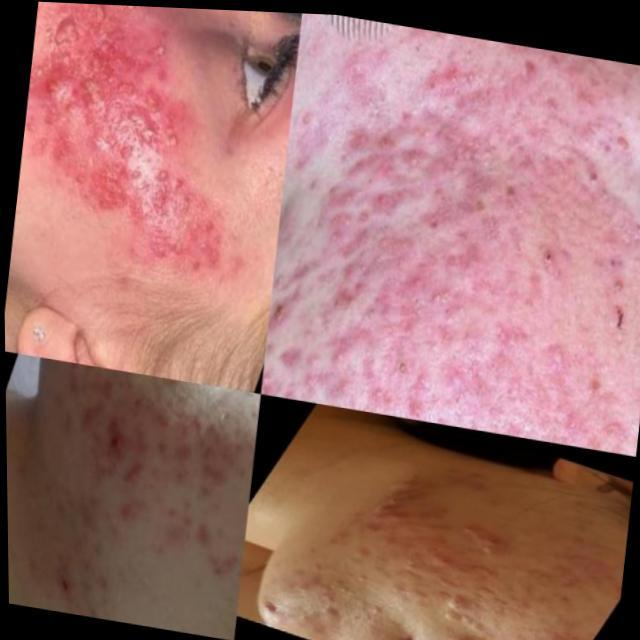cyst: (465, 513, 510, 558), (46, 6, 89, 44), (101, 424, 124, 462), (430, 65, 477, 83), (42, 81, 62, 110), (111, 506, 156, 518), (127, 109, 148, 133), (384, 502, 407, 523), (86, 81, 106, 105), (452, 592, 463, 613)
